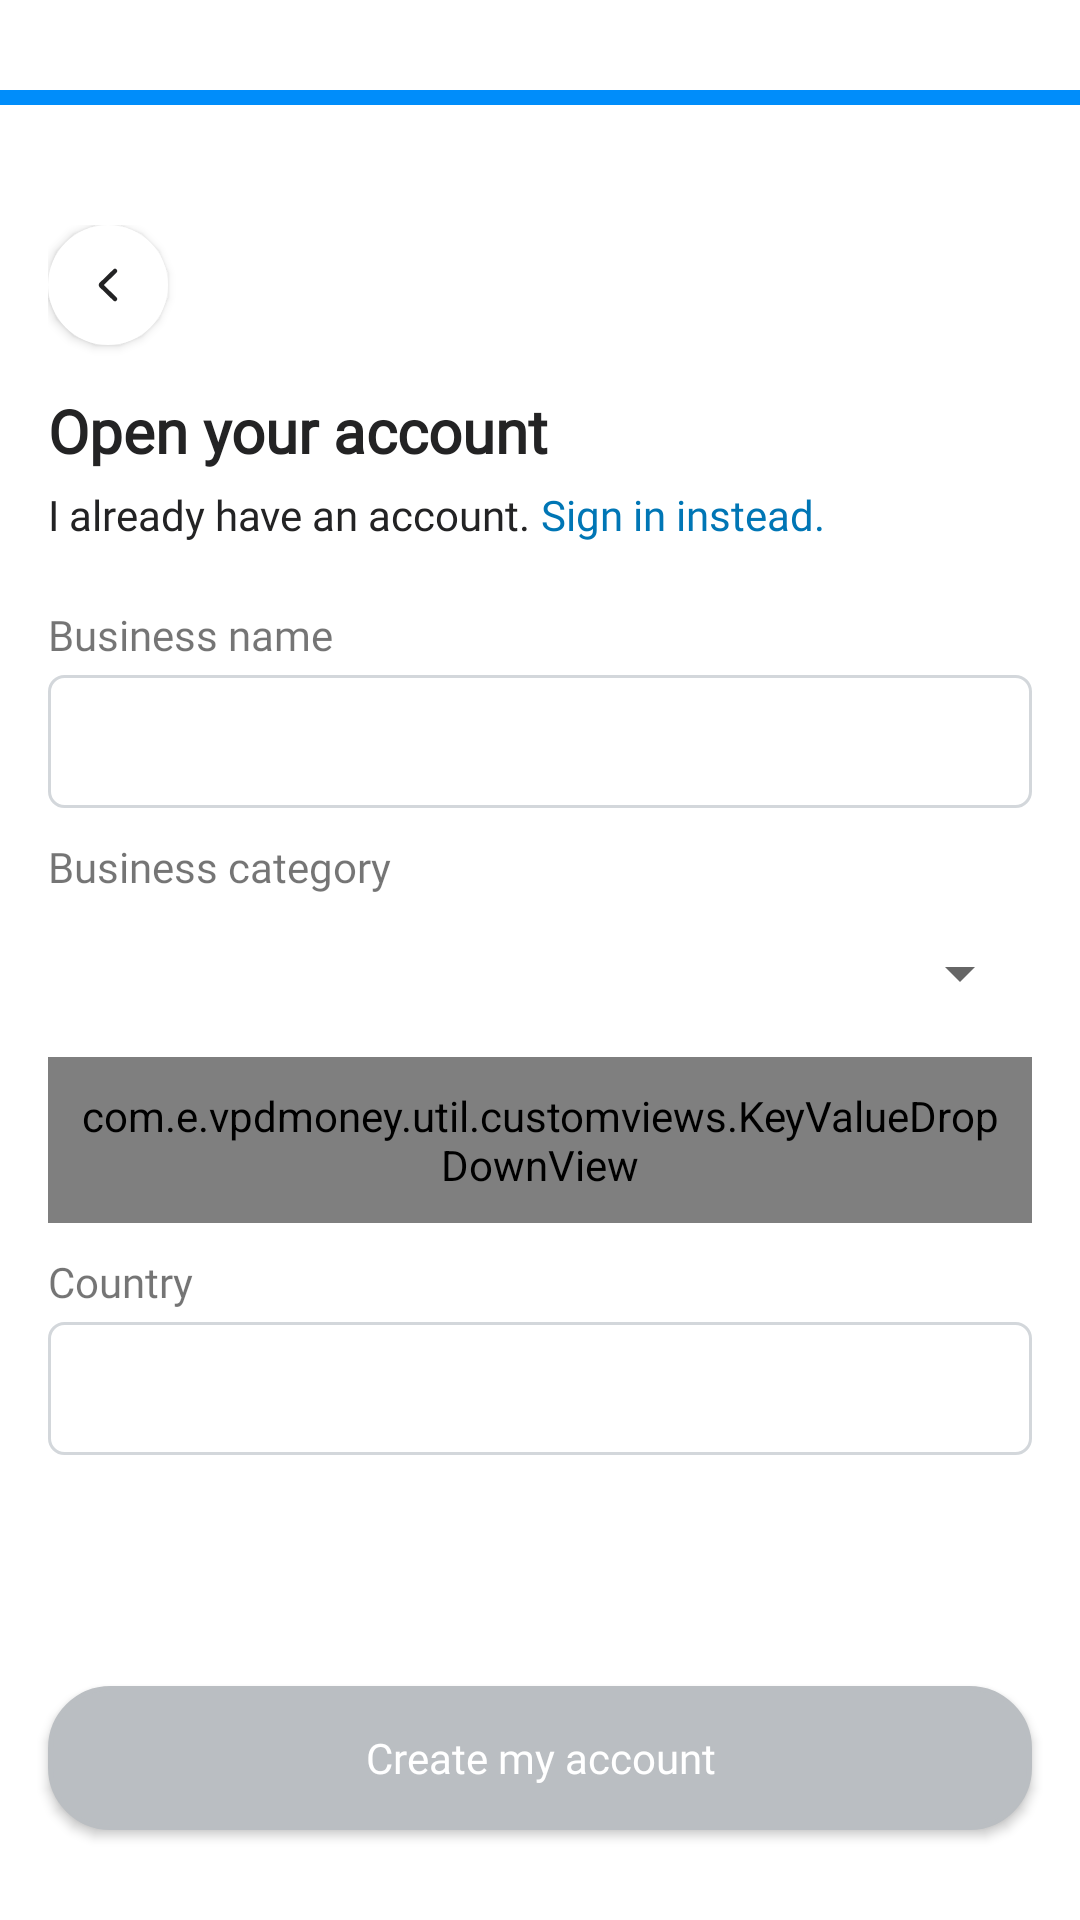

Named icons in this screenshot (1080x1920) and their centers, (x=x, y=y):
nav: (x=94, y=290)
